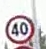limite 40: (5, 14, 34, 41)
